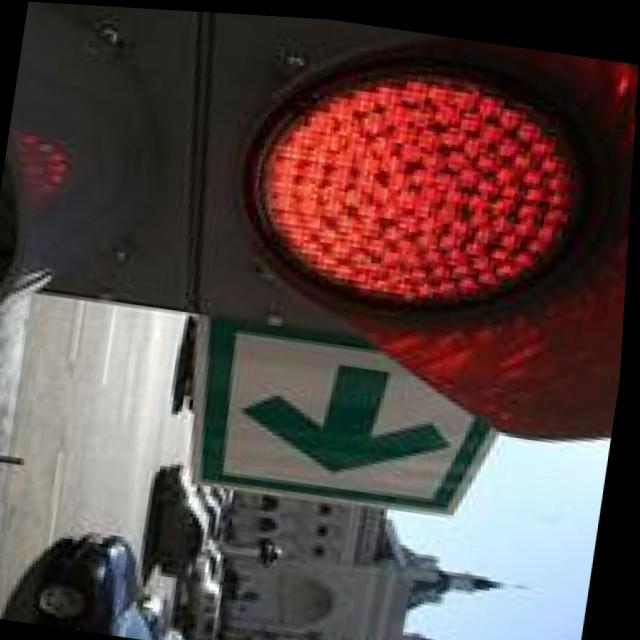red_light: (219, 11, 627, 413)
